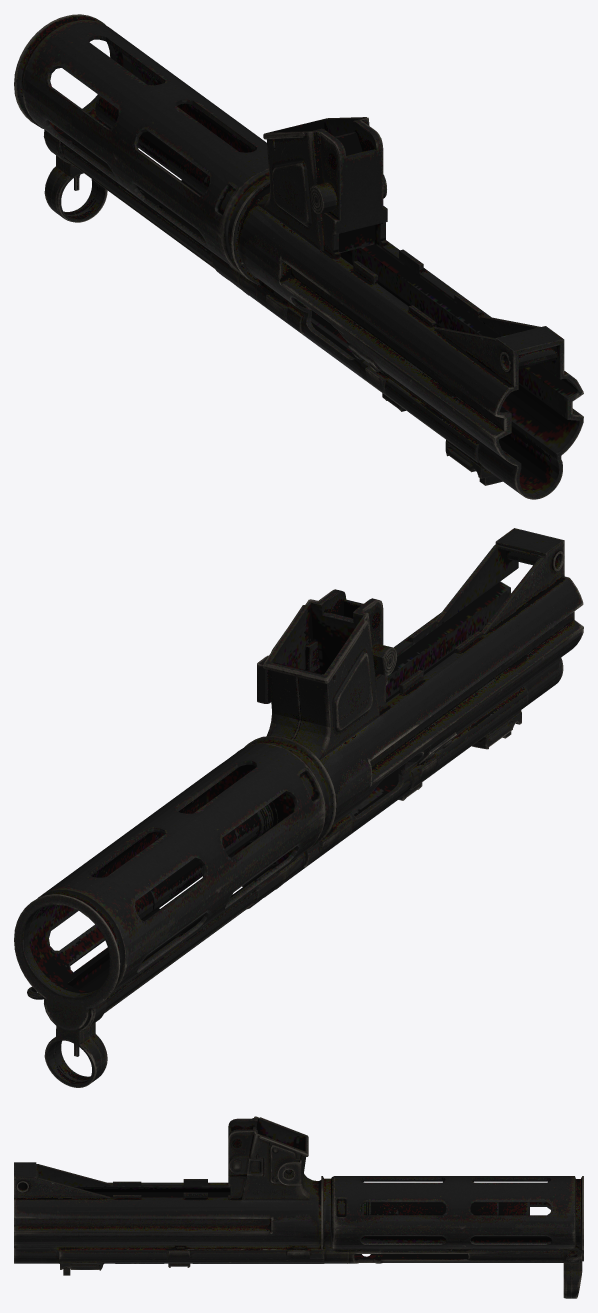
The picture shows the model from 3 angles, top to bottom: view 1: azimuth 30°, elevation 25°; view 2: azimuth 150°, elevation 25°; view 3: azimuth 270°, elevation 25°; orthographic projection. The views are drawn at different scales.
Parts seen in each view (by area): view 1: TW_5926f2e086f7745aae644231_PZ_Import; view 2: TW_5926f2e086f7745aae644231_PZ_Import; view 3: TW_5926f2e086f7745aae644231_PZ_Import.
Boxes of the visible parts, x1=… form: TW_5926f2e086f7745aae644231_PZ_Import: x1=14, y1=14, x2=583, y2=499; TW_5926f2e086f7745aae644231_PZ_Import: x1=14, y1=528, x2=583, y2=1087; TW_5926f2e086f7745aae644231_PZ_Import: x1=14, y1=1116, x2=583, y2=1298.
Size of the model in its own units: 0.0256 by 0.1997 by 0.0664.
Materials: 1 (1 with a texture image).
